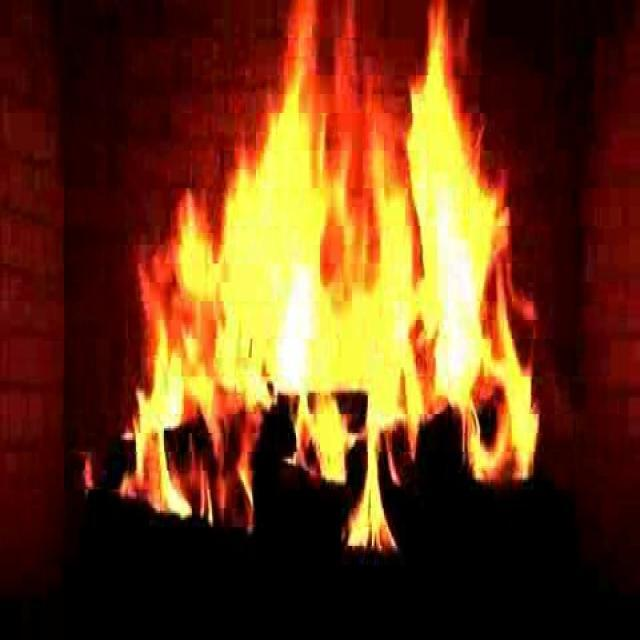Fire: (138, 37, 526, 515)
